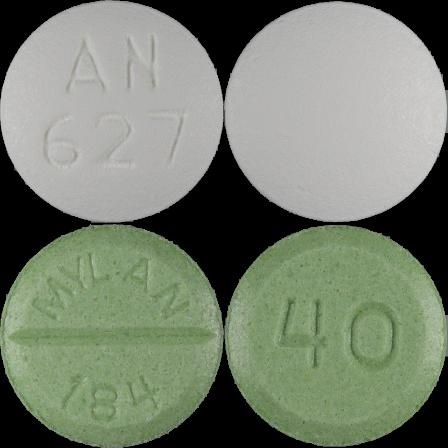43353-072: (0, 0, 224, 224)
